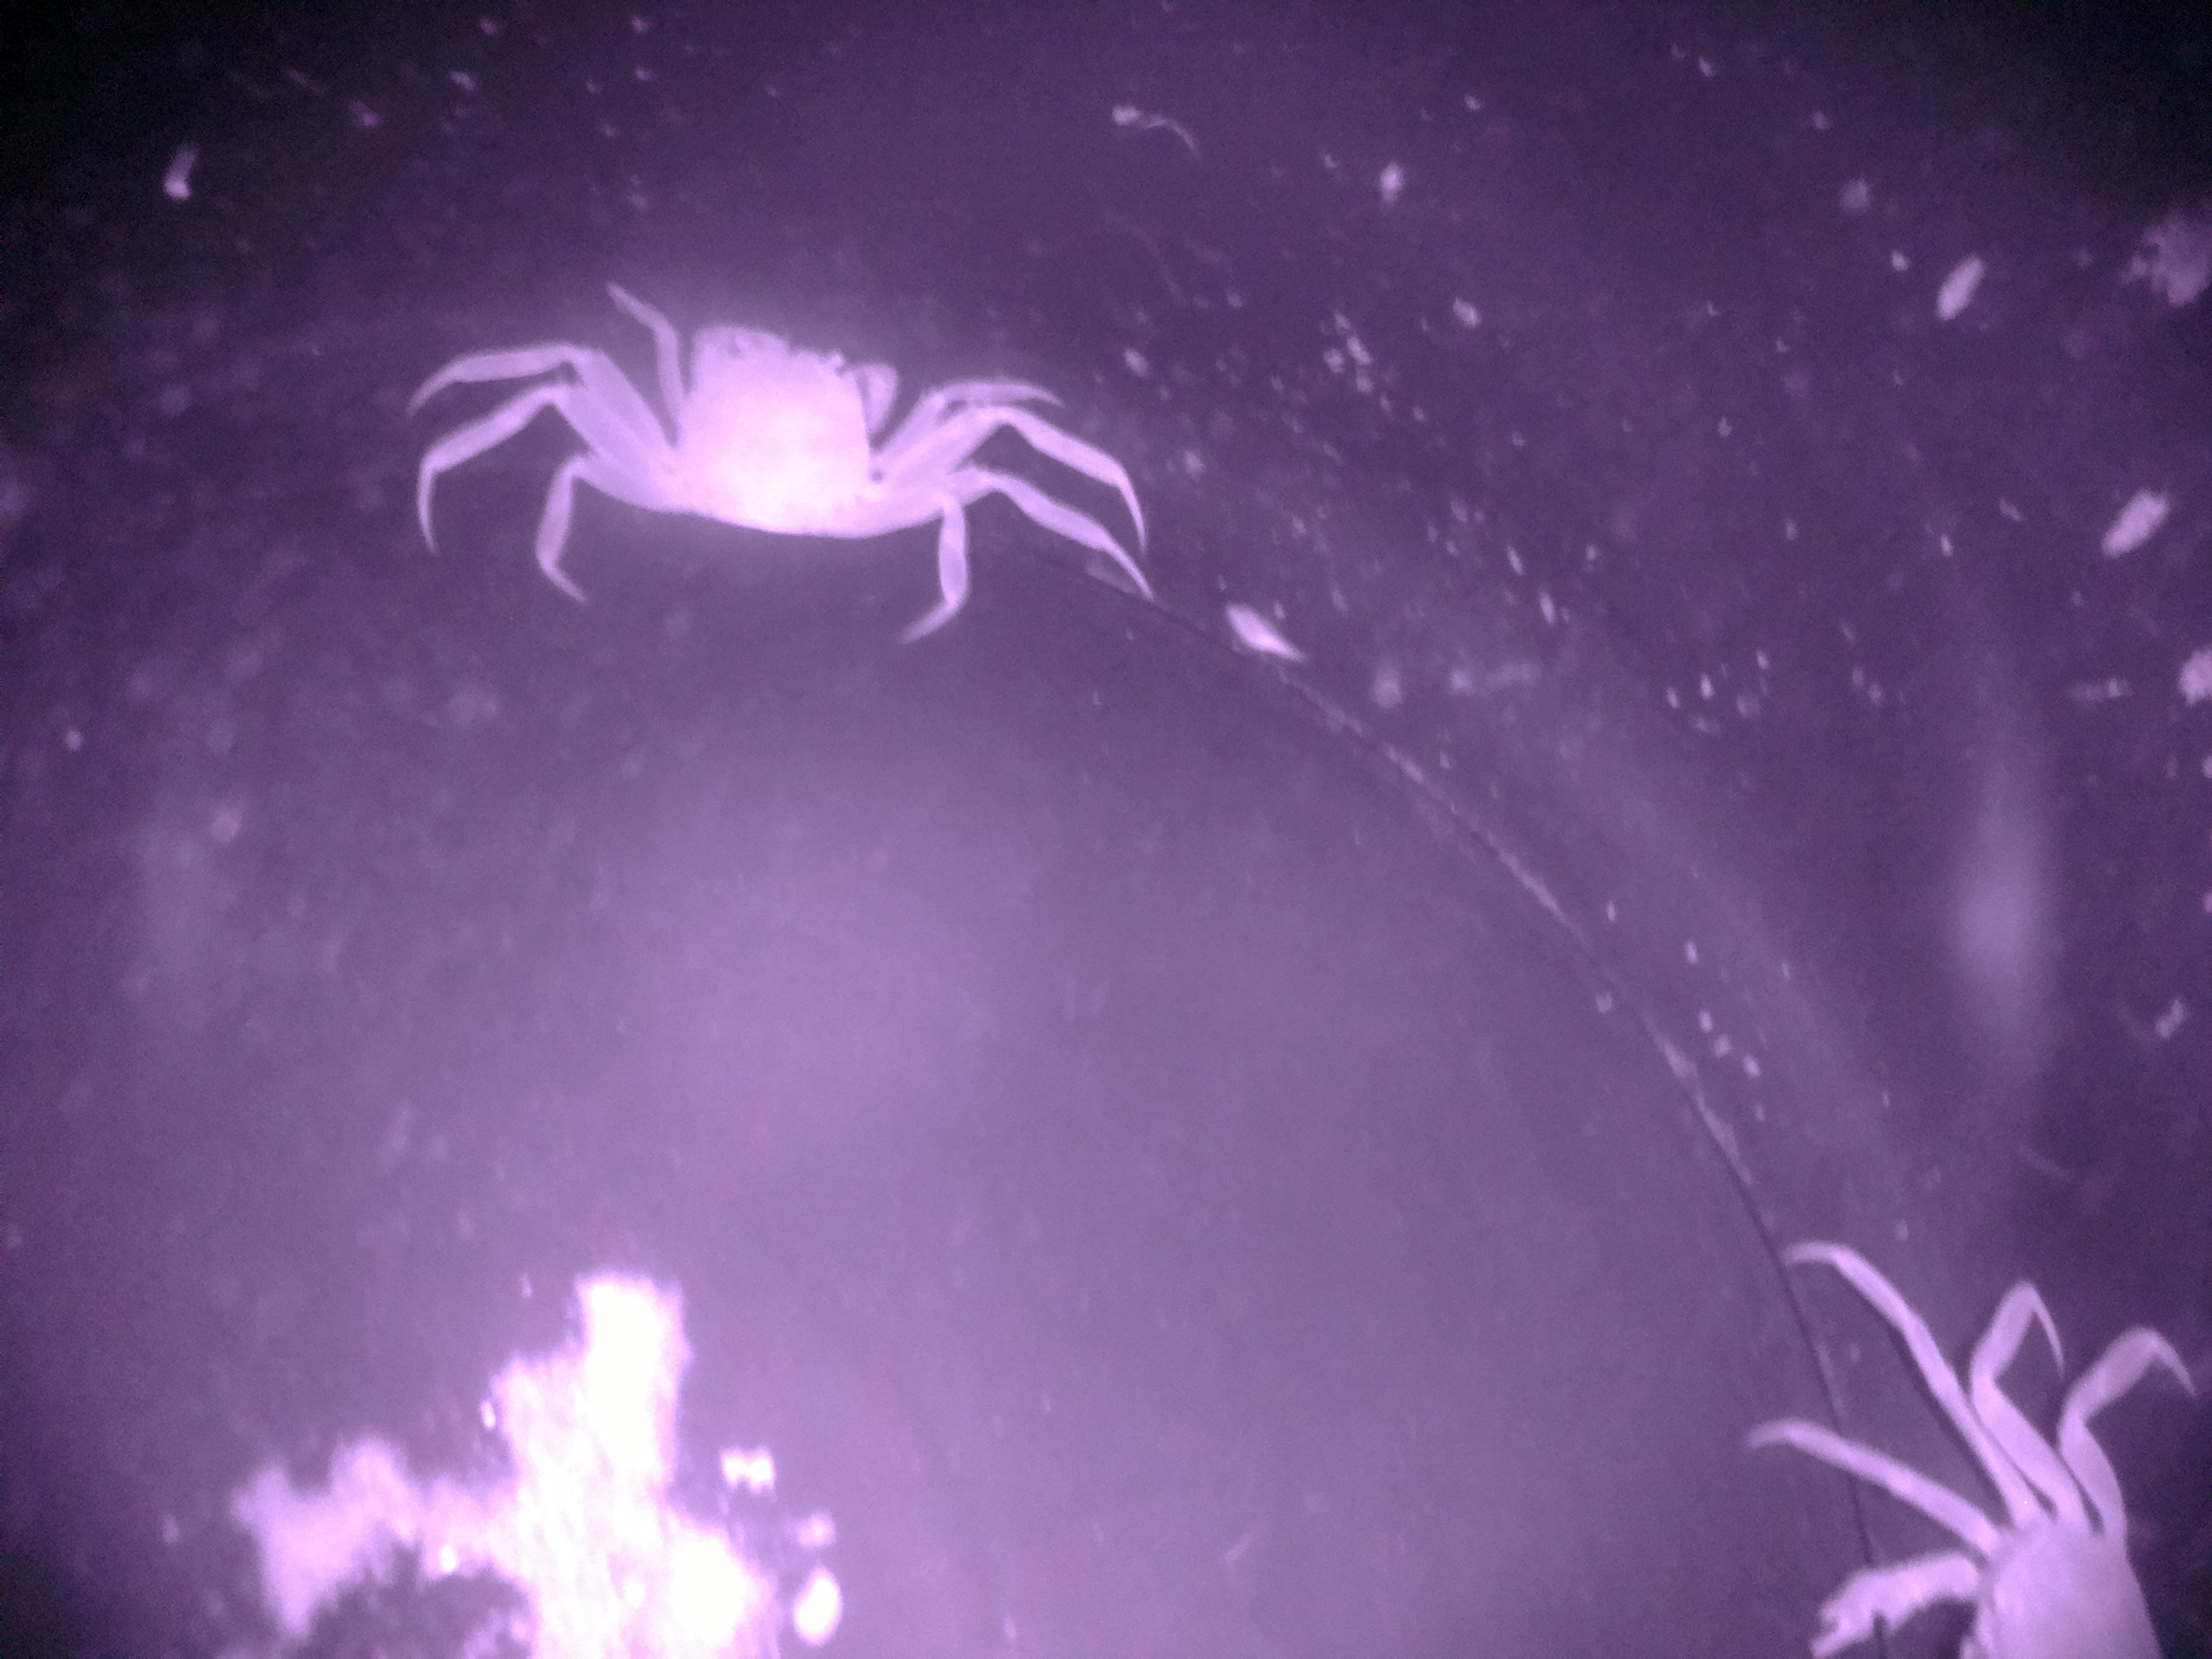Crab: (531, 207, 1043, 688)
